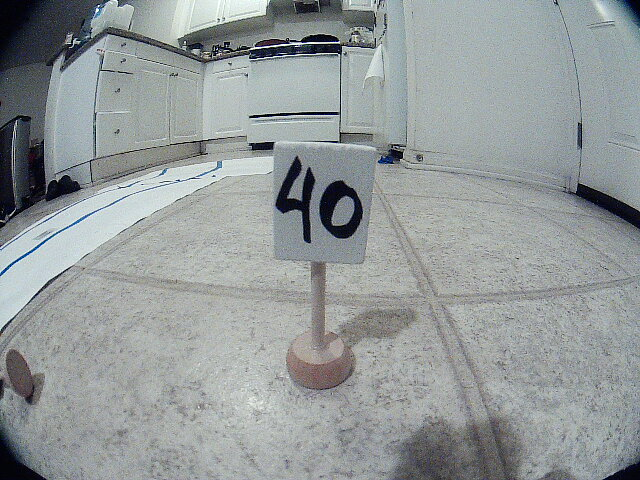Speed Limit 40: (260, 128, 397, 283)
